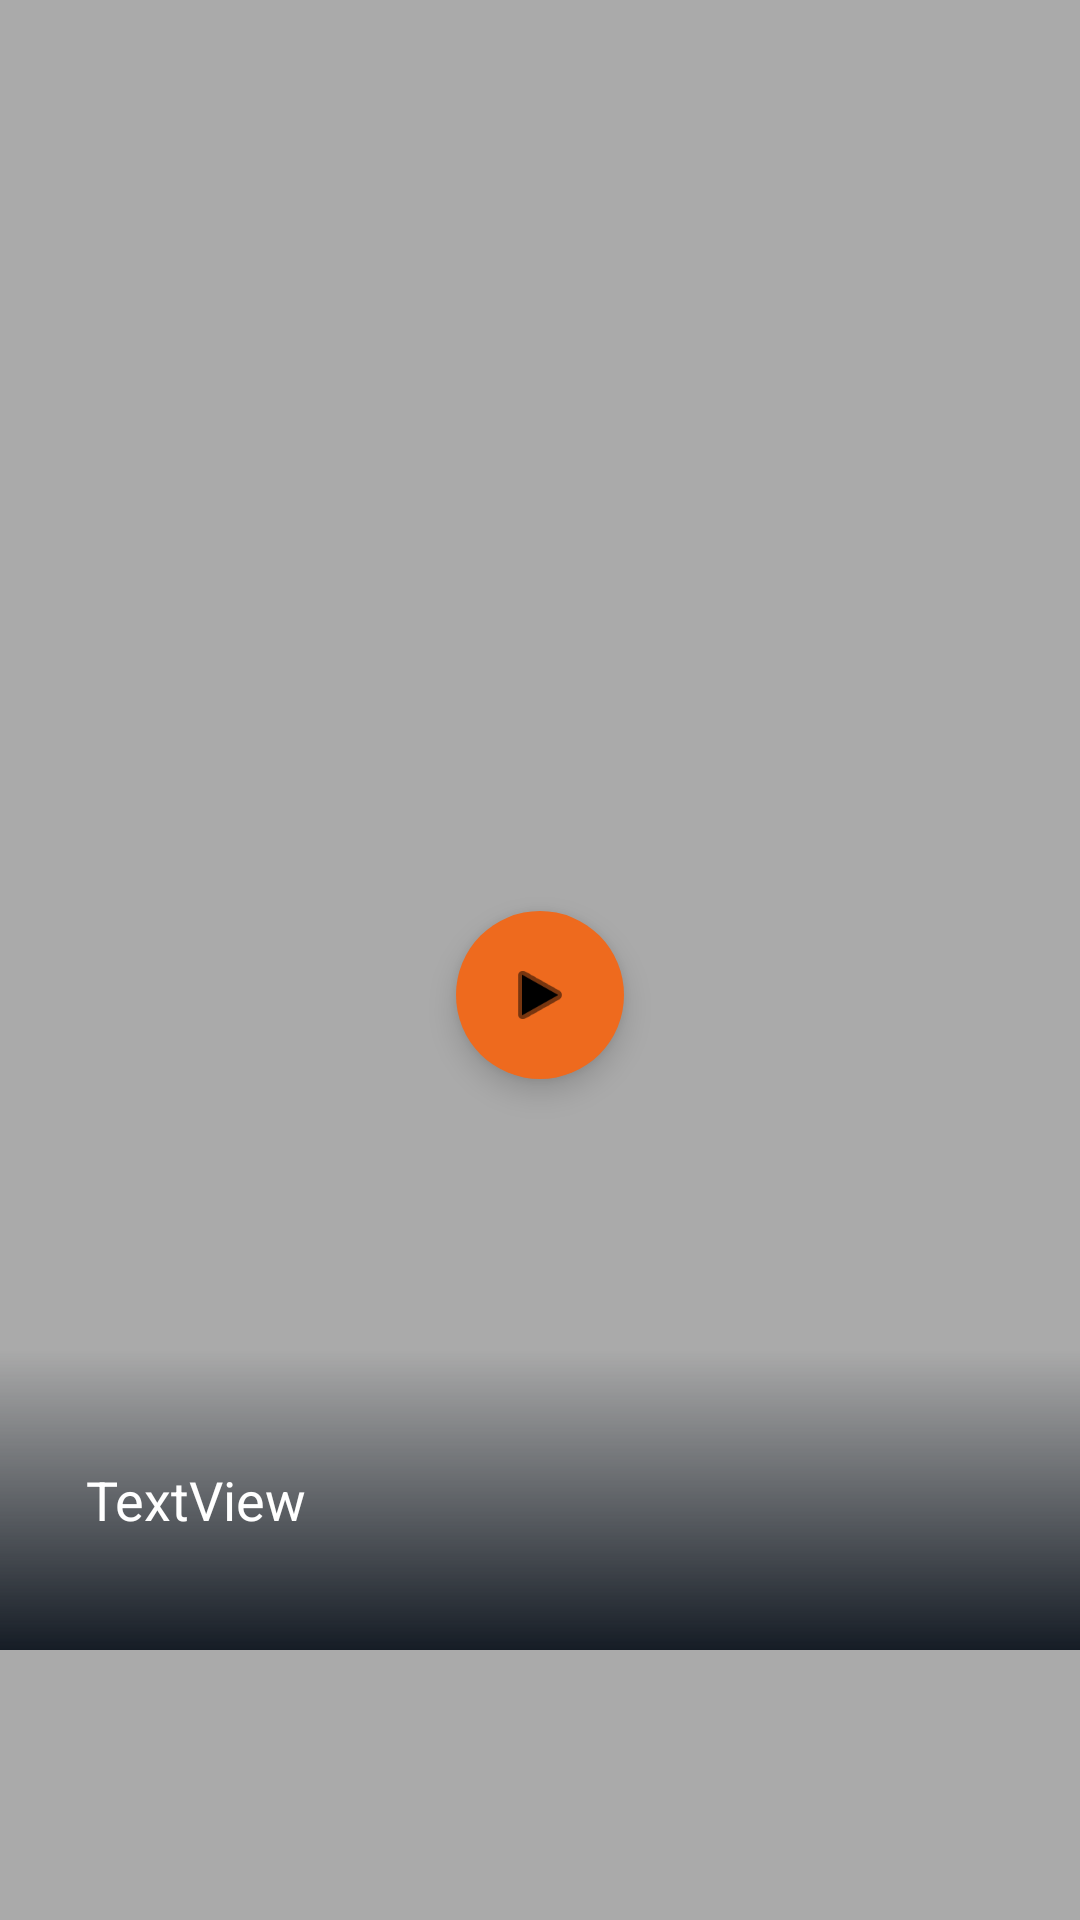

Point at icon controls on the screen. Image size 1080 × 1920, points as point (x, y).
play: point (540, 995)
